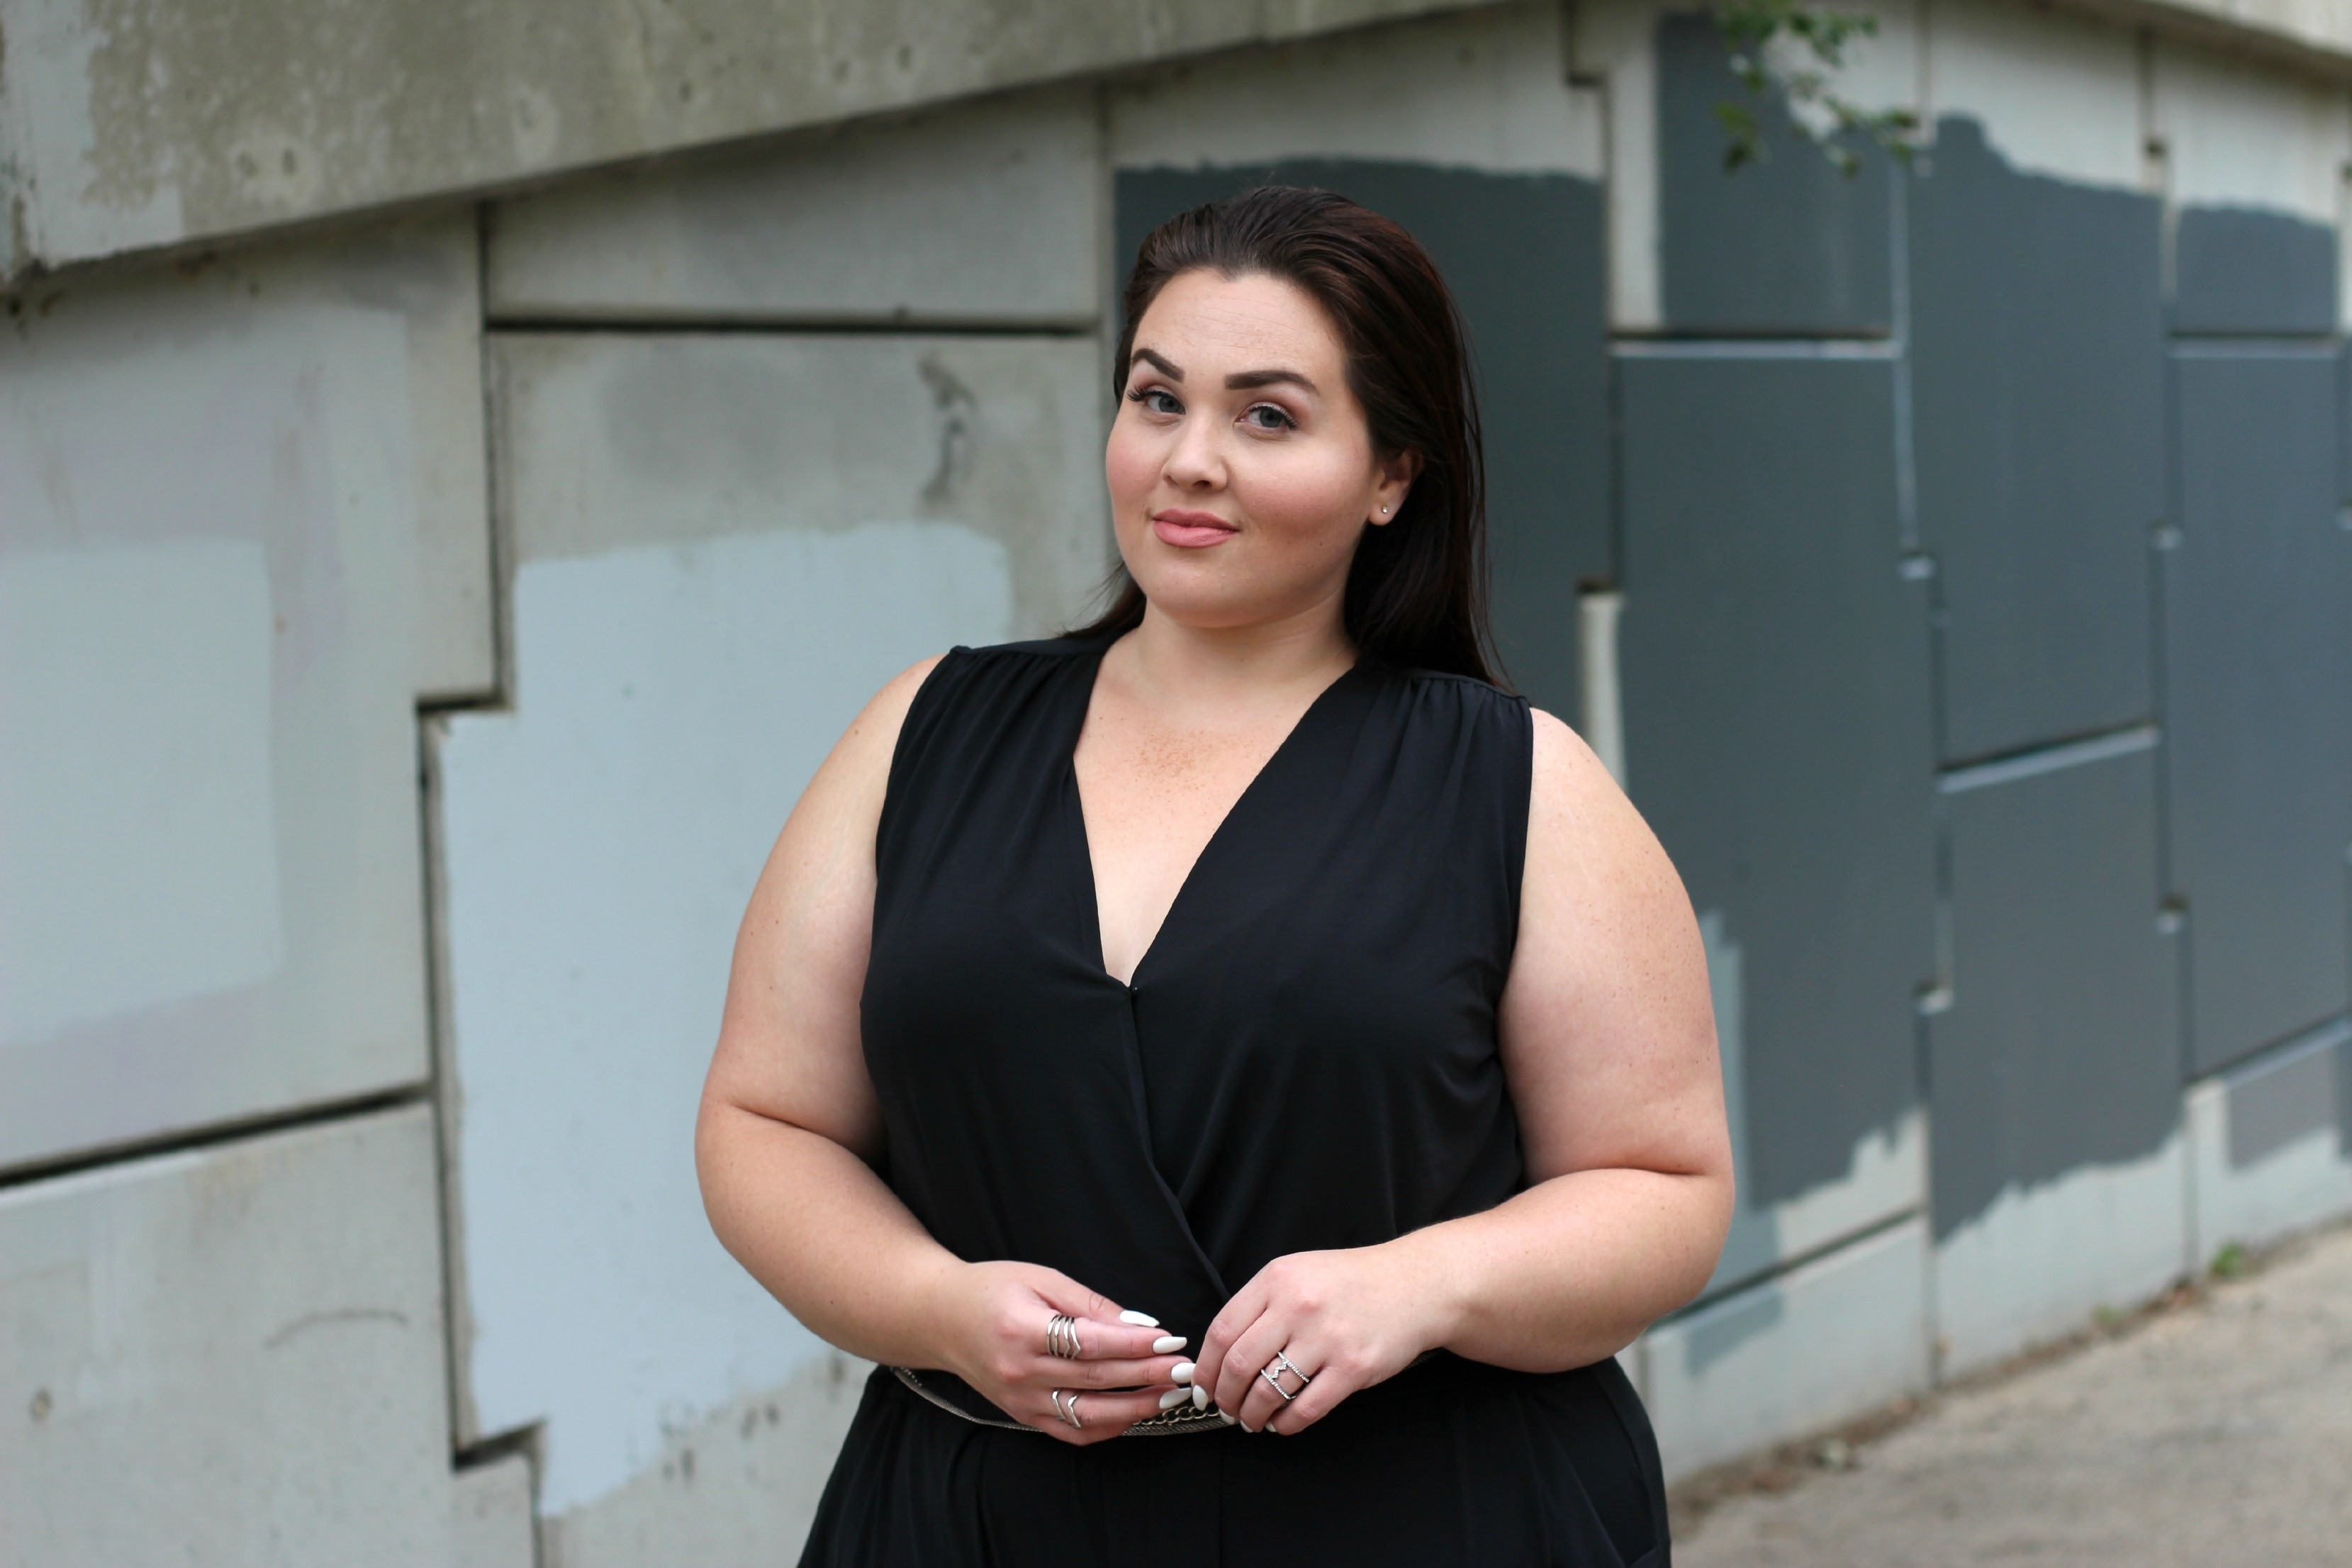face_no_mask: (1100, 201, 1446, 633)
